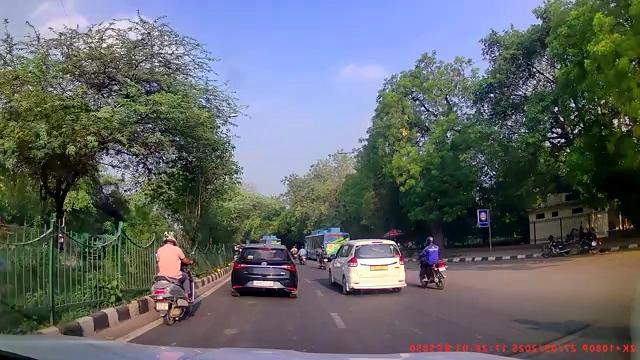motorcycle_with_helmet: (149, 229, 197, 326), (417, 235, 449, 291)
